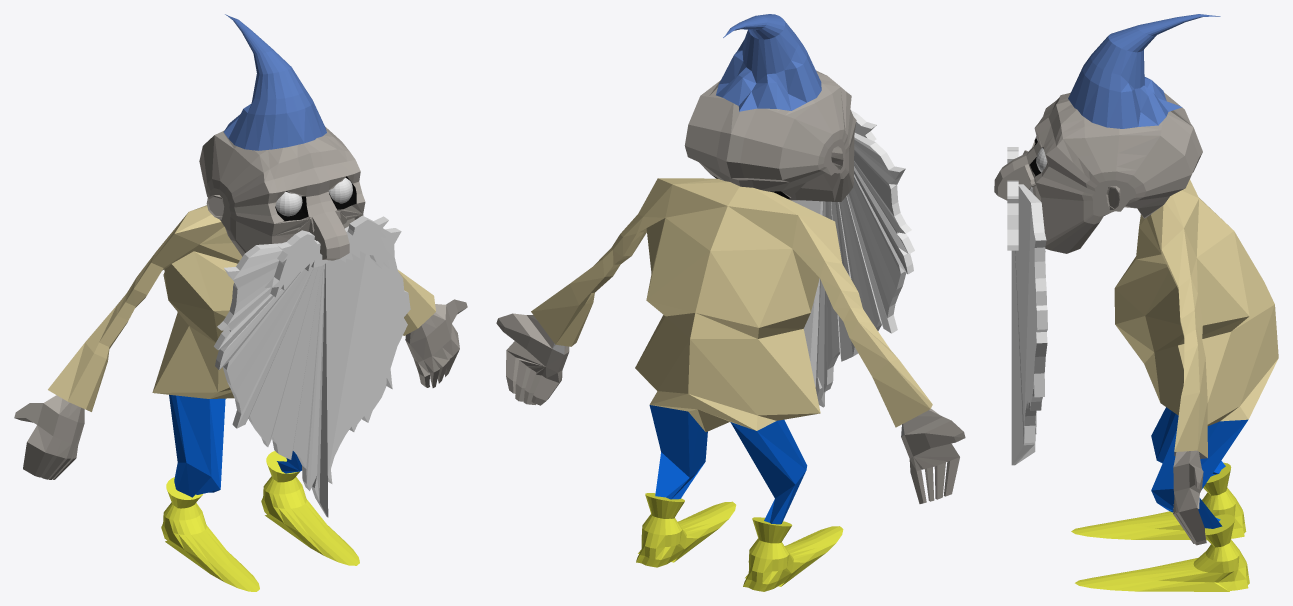
The model's file is dwarf_alpha_blue.fbx.
3 views of the same model, side by side, from view 1: azimuth 30°, elevation 25°; view 2: azimuth 150°, elevation 25°; view 3: azimuth 270°, elevation 25° (orthographic). The views are drawn at different scales.
Parts seen in each view (by area): view 1: polySurface8; view 2: polySurface8; view 3: polySurface8.
Part boxes in pixels (box(x1,y1,x2,y2)): polySurface8: box(14, 14, 467, 591); polySurface8: box(496, 14, 965, 591); polySurface8: box(994, 14, 1278, 591).
Size of the model in its own units: 15.87 by 17.28 by 8.29.
